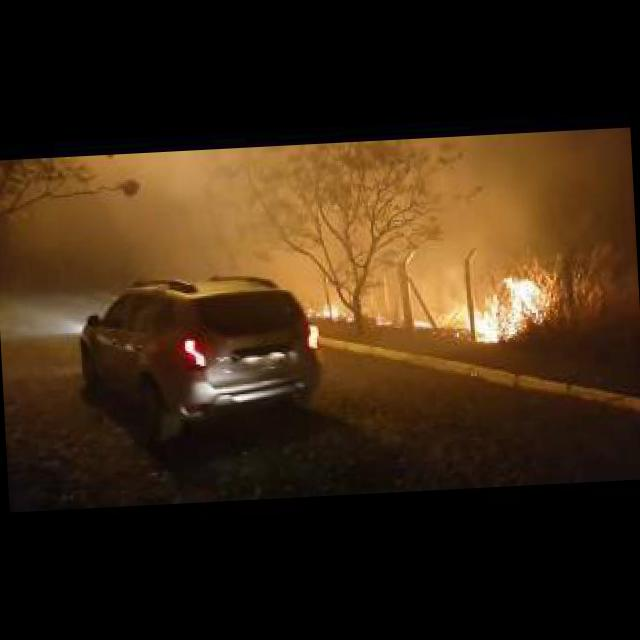fire: (454, 272, 551, 343), (313, 302, 336, 321), (414, 320, 434, 331)
